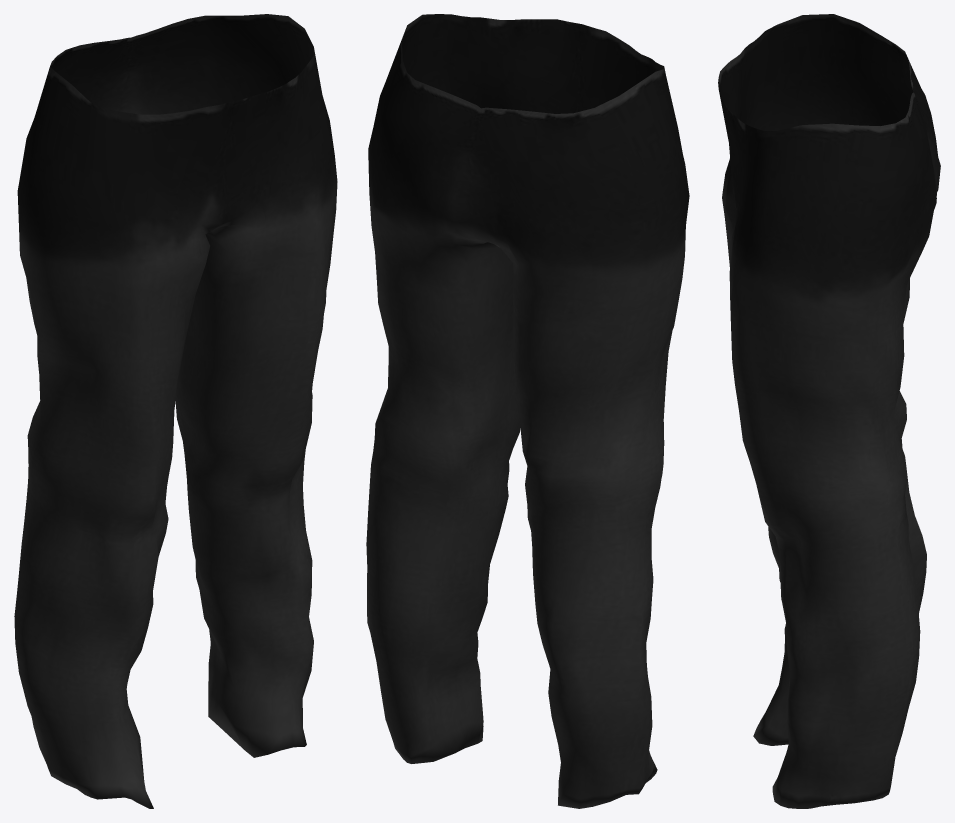
File: bottom_suit_trousers.gltf
The picture shows the model from 3 angles, left to right: view 1: azimuth 30°, elevation 25°; view 2: azimuth 150°, elevation 25°; view 3: azimuth 270°, elevation 25°; orthographic projection. The views are drawn at different scales.
Visible parts, largest first — view 1: bottom_suit_trousers; view 2: bottom_suit_trousers; view 3: bottom_suit_trousers.
Boxes of the visible parts, x1,y1,x2,y2 form: bottom_suit_trousers: (14, 14, 337, 808); bottom_suit_trousers: (366, 14, 689, 808); bottom_suit_trousers: (718, 14, 940, 808).
Size of the model in its own units: 0.3828 by 0.9004 by 0.2588.
Materials: 1 (1 with a texture image).
